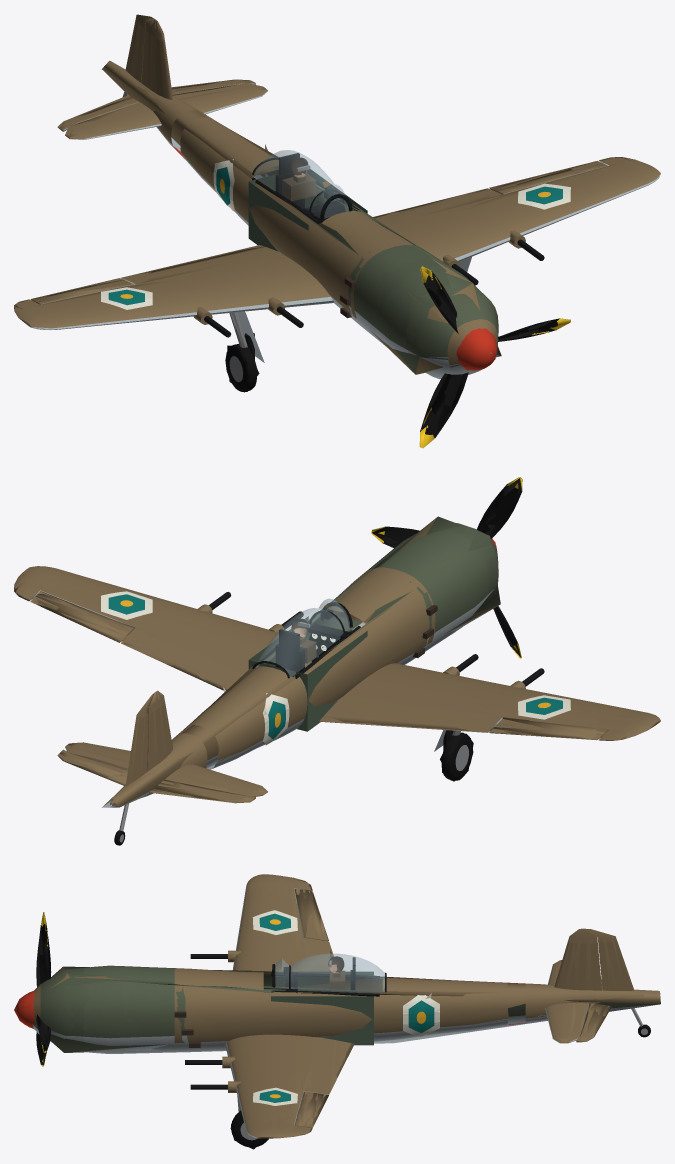
File: Bulwark.glb
The picture shows the model from 3 angles, top to bottom: view 1: azimuth 30°, elevation 25°; view 2: azimuth 150°, elevation 25°; view 3: azimuth 270°, elevation 25°; orthographic projection. The views are drawn at different scales.
Parts seen in each view (by area): view 1: L0_Fuselage, L1_Fuselage, L2_WingR, L2_WingL, L2_Fuselage, L1_WingL, L1_WingR, L0_Glass, L0_WingR, L0_Interior, L2_Tail, L0_Propeller (+11 smaller); view 2: L0_Fuselage, L1_Fuselage, L2_WingR, L2_WingL, L2_Fuselage, L1_WingL, L1_WingR, L0_Interior, L0_Glass, L0_WingR, L2_Tail, L0_WingL (+12 smaller); view 3: L0_Fuselage, L1_Fuselage, L2_WingL, L2_Fuselage, L2_WingR, L0_Glass, L1_WingL, L0_Interior, L1_WingR, L0_WingL, L0_Tail, L2_Tail (+11 smaller).
Boxes of the visible parts, x1=… form: L0_Fuselage: x1=136, y1=79, x2=498, y2=379; L1_Fuselage: x1=134, y1=78, x2=498, y2=379; L2_WingR: x1=14, y1=245, x2=332, y2=329; L2_WingL: x1=373, y1=157, x2=660, y2=261; L2_Fuselage: x1=102, y1=60, x2=501, y2=374; L1_WingL: x1=373, y1=157, x2=658, y2=284; L1_WingR: x1=14, y1=245, x2=331, y2=337; L0_Glass: x1=254, y1=150, x2=348, y2=217; L0_WingR: x1=14, y1=246, x2=333, y2=337; L0_Interior: x1=248, y1=153, x2=367, y2=251; L2_Tail: x1=65, y1=18, x2=267, y2=139; L0_Propeller: x1=419, y1=266, x2=570, y2=448; L0_Fuselage: x1=110, y1=523, x2=498, y2=806; L1_Fuselage: x1=110, y1=527, x2=497, y2=806; L2_WingR: x1=319, y1=663, x2=660, y2=740; L2_WingL: x1=14, y1=566, x2=318, y2=690; L2_Fuselage: x1=102, y1=516, x2=500, y2=807; L1_WingL: x1=14, y1=567, x2=301, y2=689; L1_WingR: x1=319, y1=654, x2=660, y2=739; L0_Interior: x1=248, y1=609, x2=367, y2=731; L0_Glass: x1=256, y1=599, x2=349, y2=675; L0_WingR: x1=324, y1=654, x2=657, y2=740; L2_Tail: x1=65, y1=691, x2=267, y2=796; L0_WingL: x1=14, y1=566, x2=303, y2=689; L0_Fuselage: x1=33, y1=964, x2=644, y2=1053; L1_Fuselage: x1=33, y1=964, x2=643, y2=1053; L2_WingL: x1=227, y1=1034, x2=354, y2=1138; L2_Fuselage: x1=15, y1=966, x2=660, y2=1052; L2_WingR: x1=233, y1=874, x2=332, y2=971; L0_Glass: x1=275, y1=953, x2=384, y2=992; L1_WingL: x1=185, y1=1036, x2=350, y2=1138; L0_Interior: x1=271, y1=957, x2=373, y2=1045; L1_WingR: x1=190, y1=874, x2=332, y2=971; L0_WingL: x1=185, y1=1037, x2=345, y2=1138; L0_Tail: x1=545, y1=929, x2=601, y2=1042; L2_Tail: x1=547, y1=928, x2=597, y2=1043.
Size of the model in its own units: 10.45 by 3.23 by 10.88.
